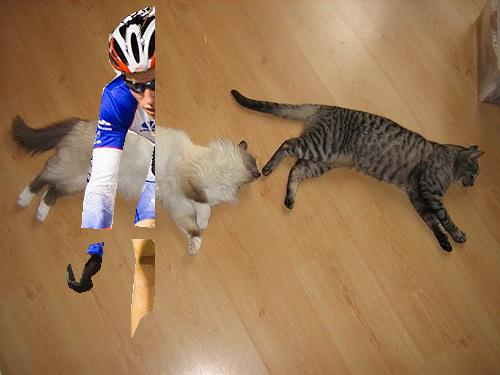tampered: (67, 4, 155, 338)
